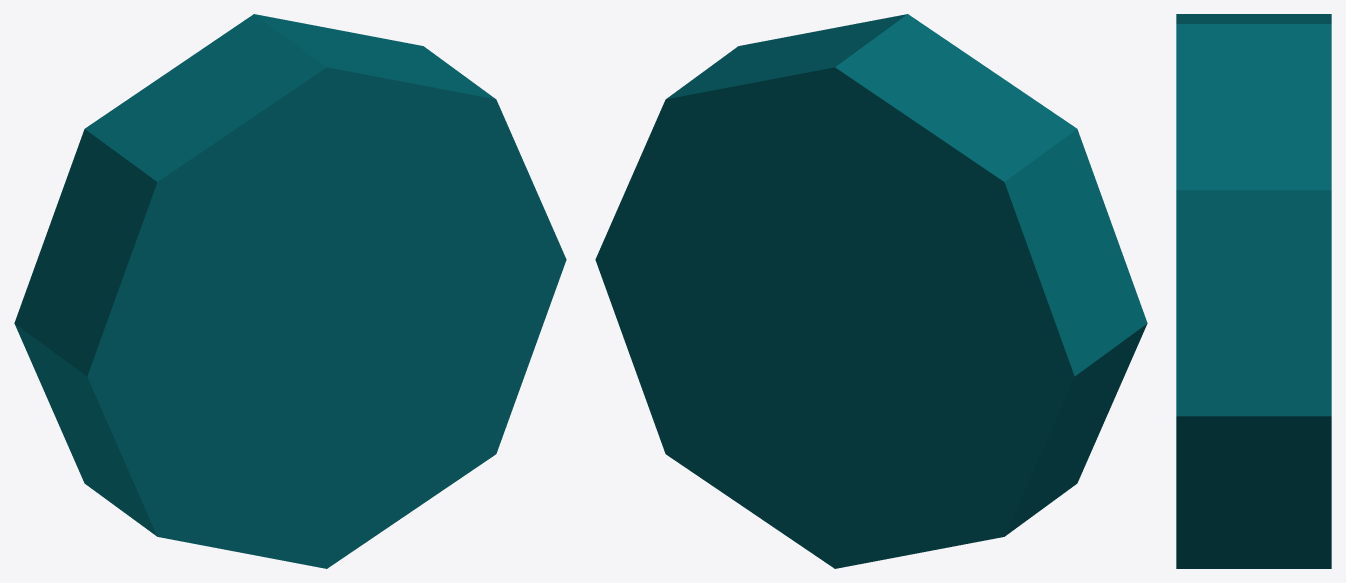
The model's file is Boton07.fbx.
3 views of the same model, side by side, from view 1: azimuth 30°, elevation 25°; view 2: azimuth 150°, elevation 25°; view 3: azimuth 270°, elevation 25° (orthographic). The views are drawn at different scales.
Visible parts, largest first — view 1: Boton07; view 2: Boton07; view 3: Boton07.
Boxes of the visible parts, bbox=[...] form: Boton07: bbox=[14, 14, 566, 568]; Boton07: bbox=[595, 14, 1147, 568]; Boton07: bbox=[1176, 14, 1331, 568].
Bounding box in the file's own units: 0.02 × 0.02 × 0.00527.
